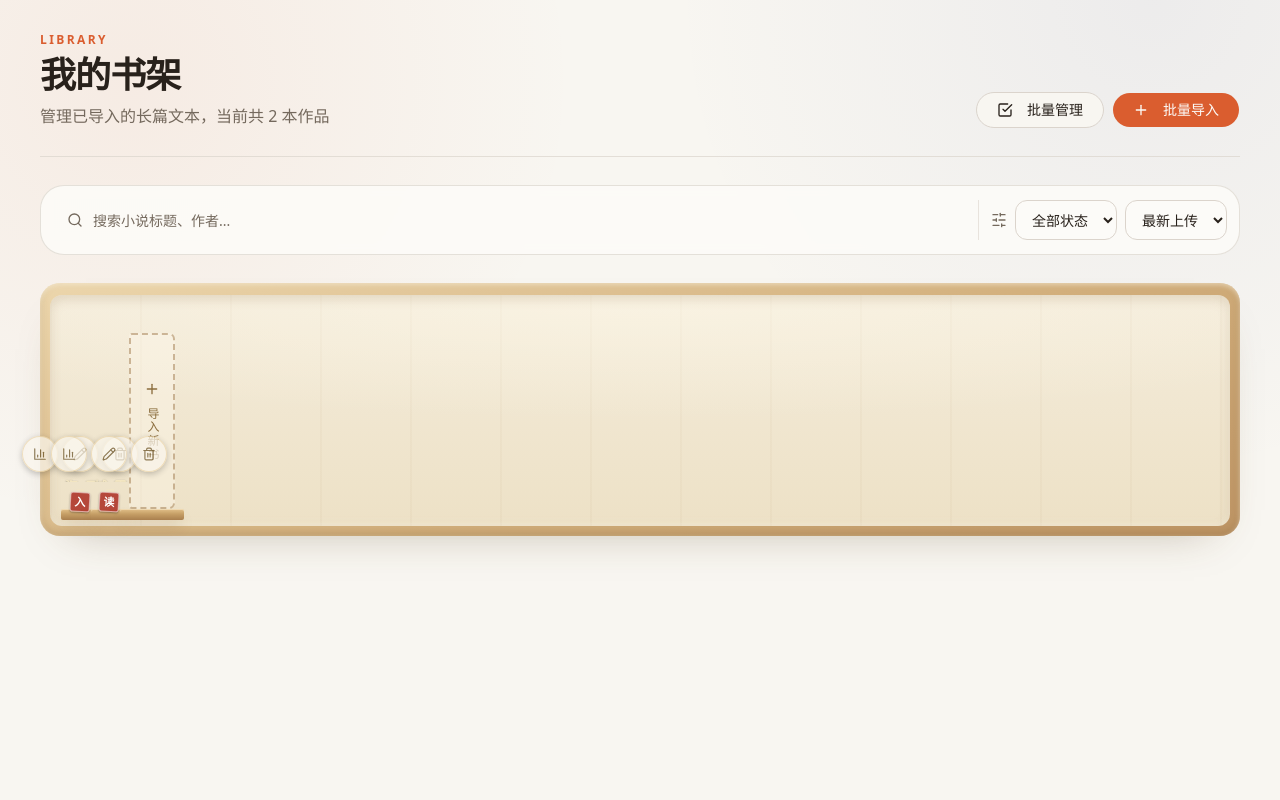
Test case: NovelsPage › 搜索过滤小说
Type "云海" into the field with placeholder "搜索小说标题、作者...". click: (510, 220)
box: top-left (53, 198), bottom-right (966, 242)
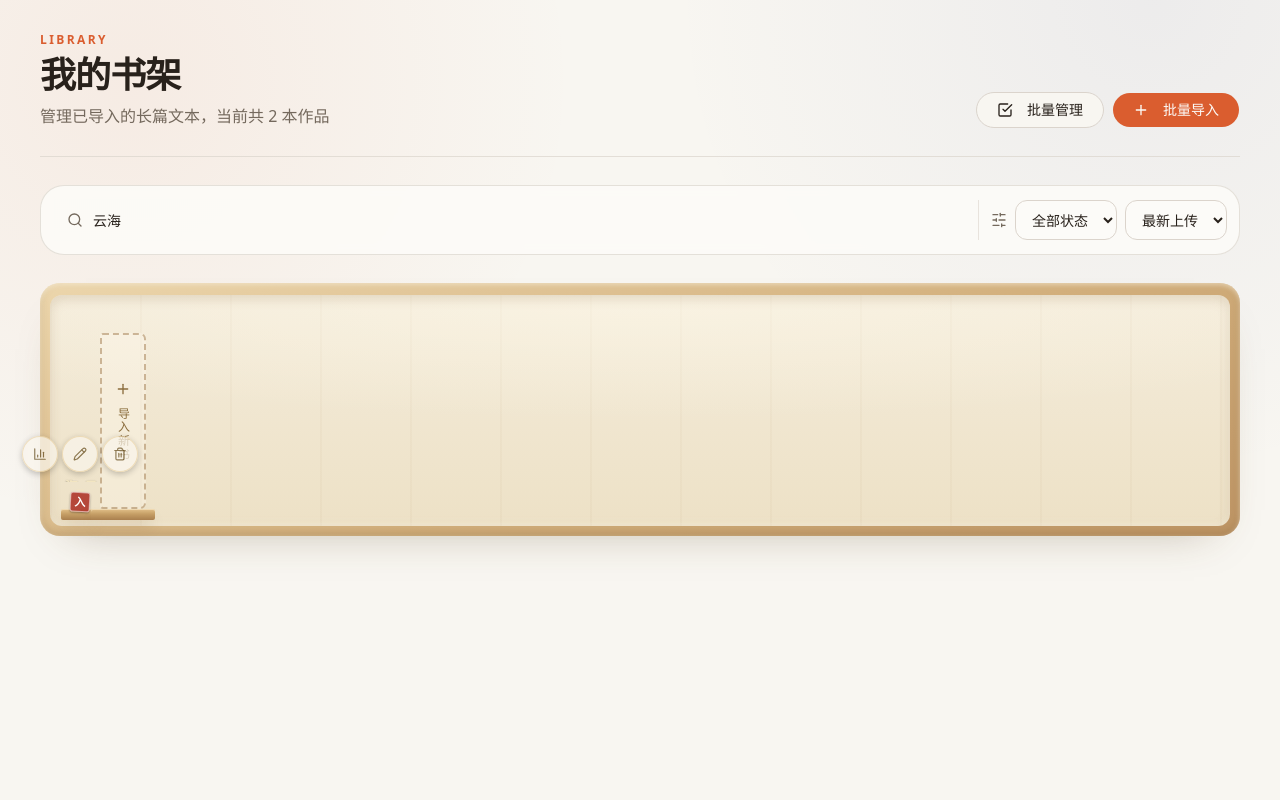
Check: the text "云海" is shown, box top-left (60, 478), bottom-right (99, 482)
Check: the text "雾城" is gone
